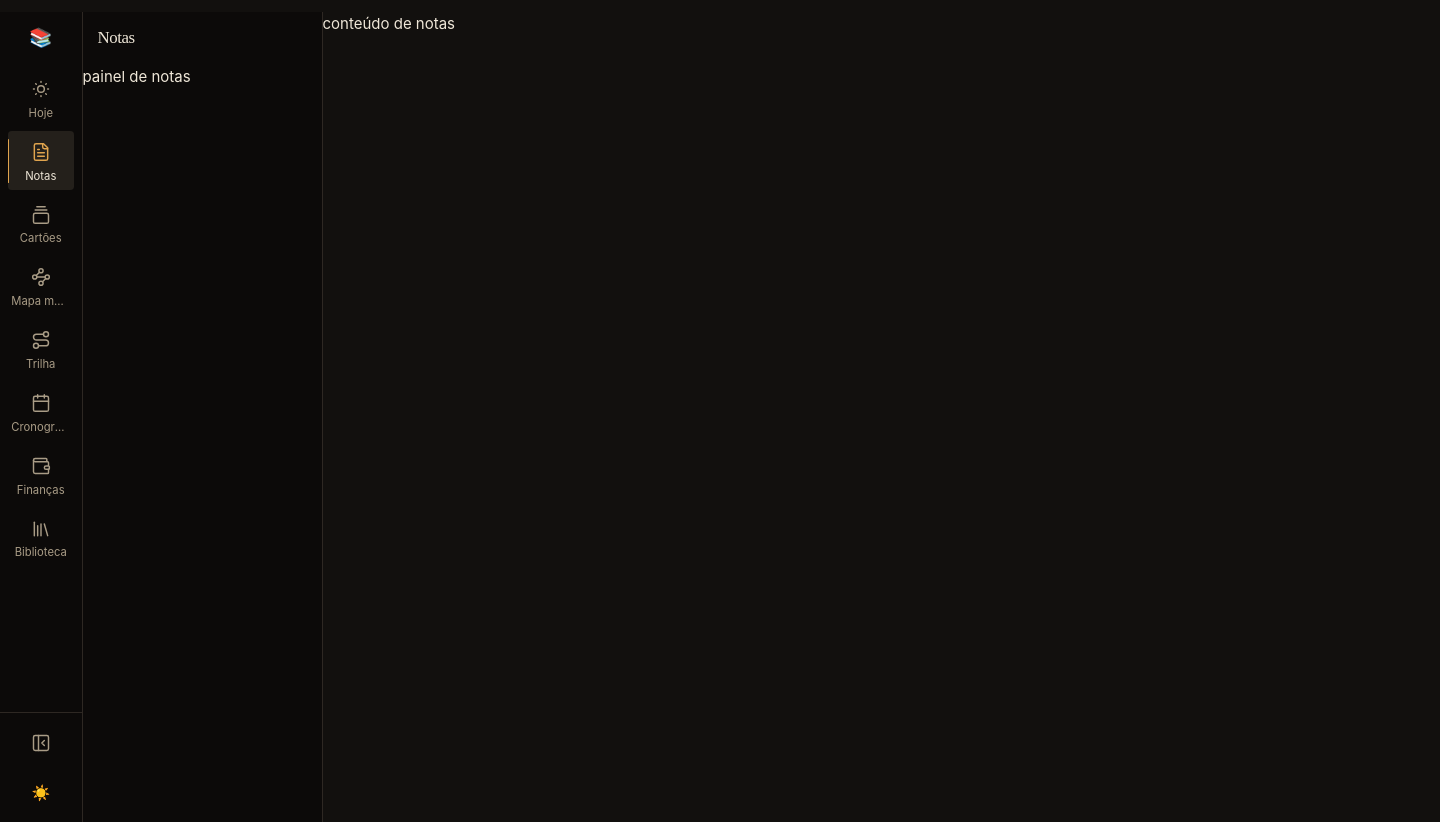
Scenario: AppShell › seção sem tela mostra o estado em construção com o nome dela
Click the button "Cronograma" at [41, 412], box 8,382 -> 74,441
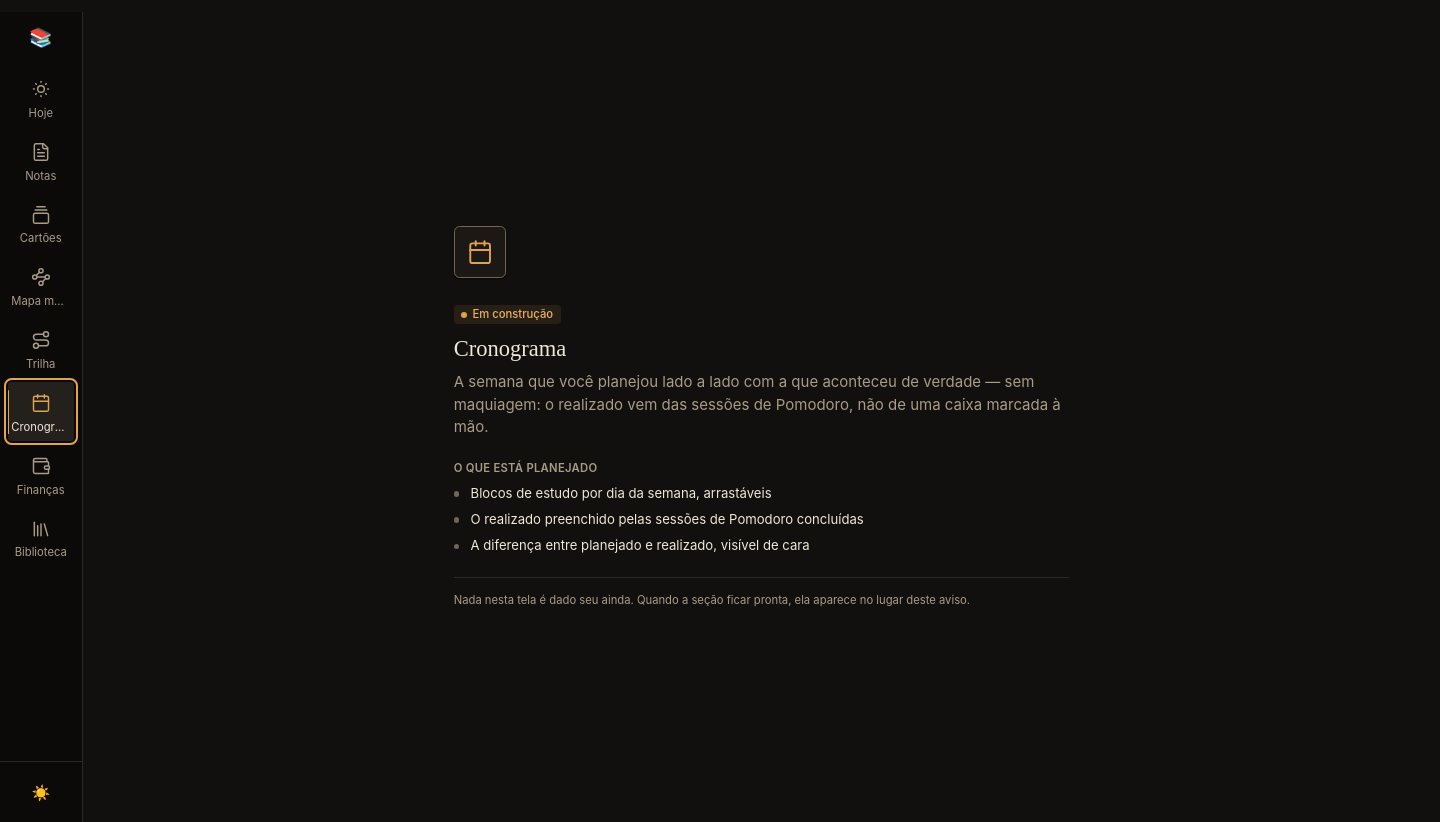
Expected: the heading "Cronograma" is shown, 454,336 -> 566,362
Expected: the text "Em construção" is shown, 454,306 -> 561,324
